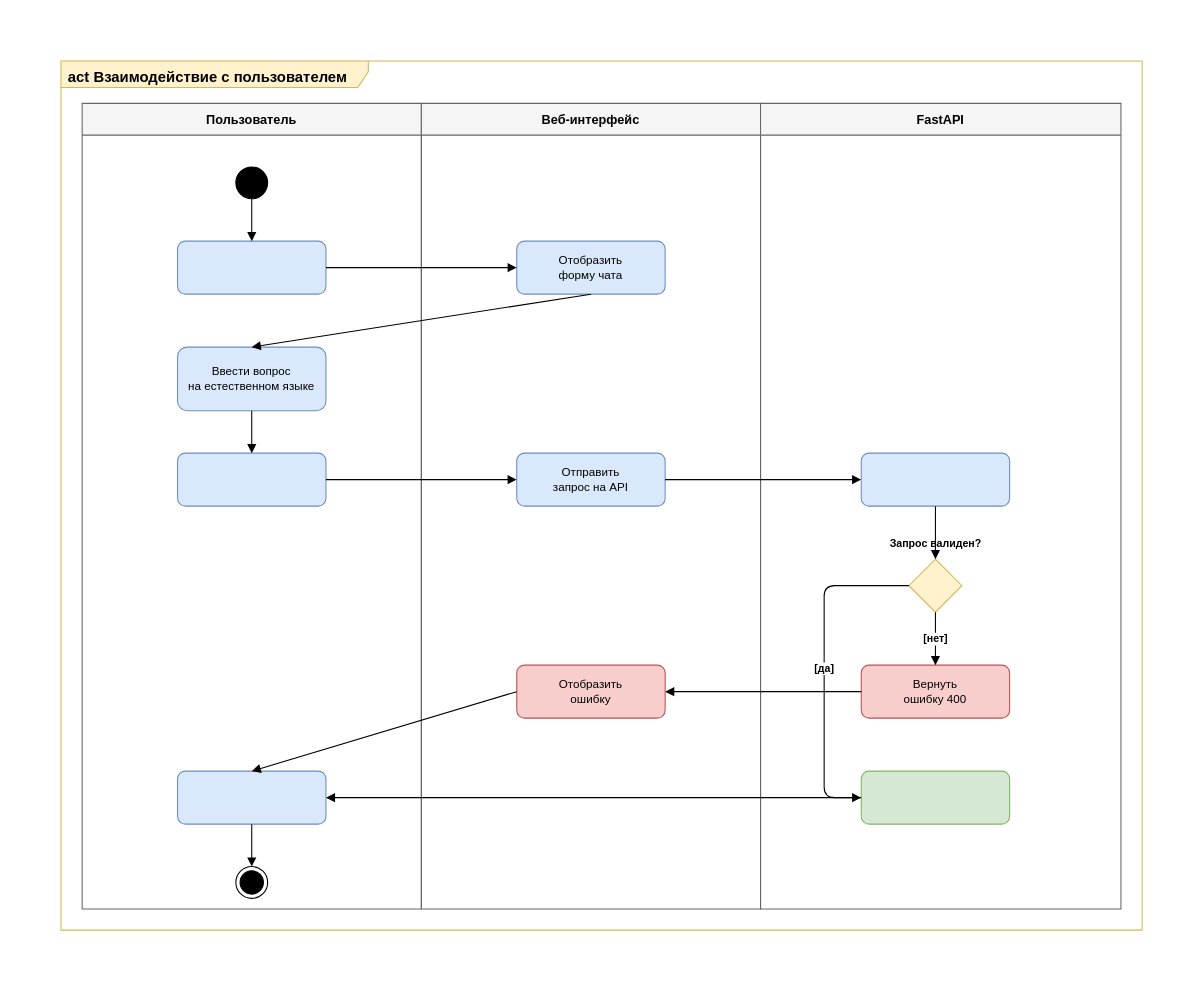
The diagram is 1202 pixels wide and 990 high, and some of its shapes have lost their labels. Here are the shapes that lost their labels. From the top down, the centre of each, then its label:
[251,267]: Открыть главную страницу
[251,479]: Нажать кнопку Отправить
[935,479]: Принять запрос и валидировать
[251,797]: Прочитать ответ
[935,797]: Передать запрос AI-агенту
